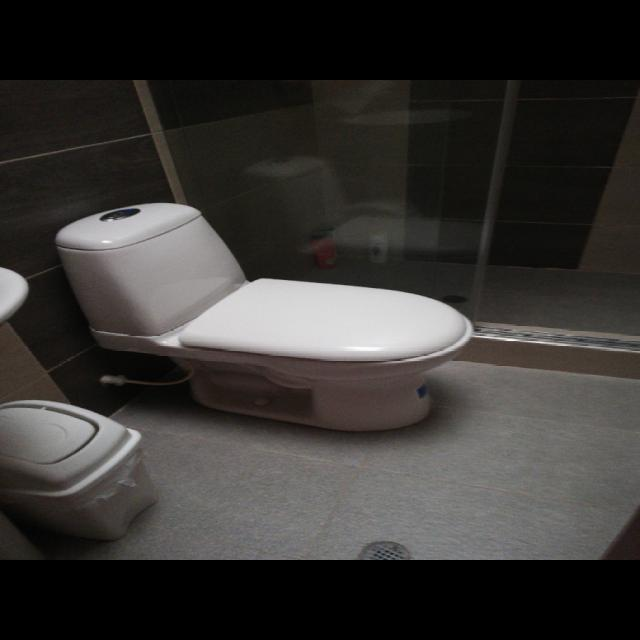toilet: (53, 202, 474, 432)
